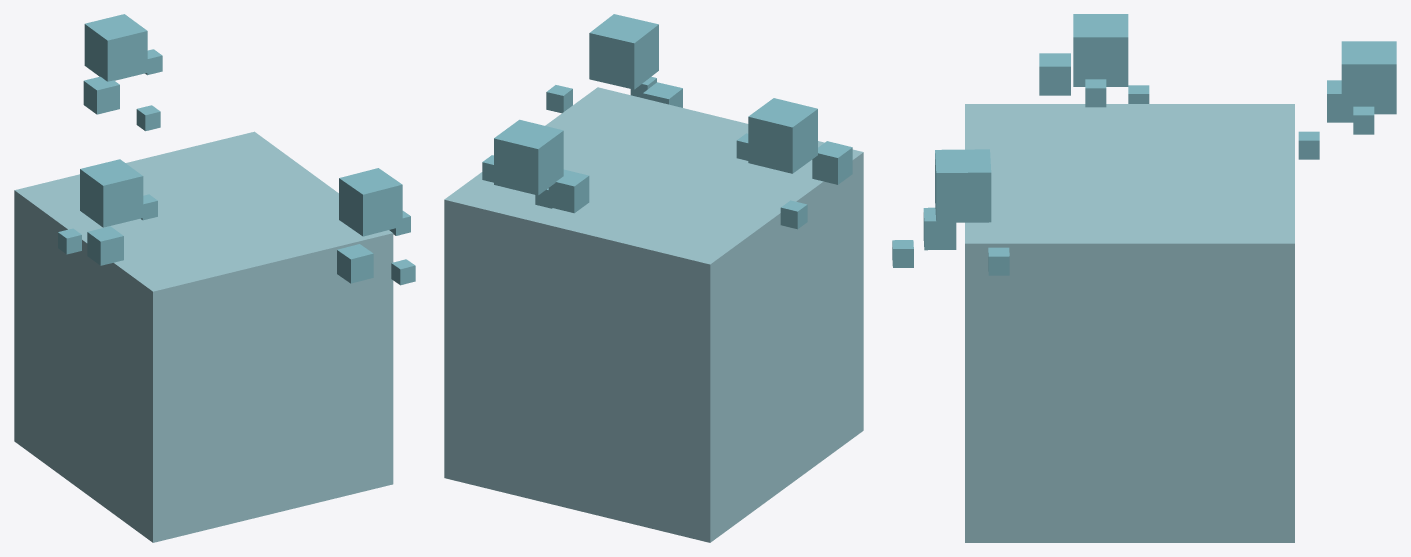
File: 04_15 sky env place holder model.fbx
The picture shows the model from 3 angles, left to right: view 1: azimuth 30°, elevation 25°; view 2: azimuth 150°, elevation 25°; view 3: azimuth 270°, elevation 25°; orthographic projection. The views are drawn at different scales.
Visible parts, largest first — view 1: sky_env; view 2: sky_env; view 3: sky_env.
Boxes of the visible parts, box(x1,y1,x2,y2) form: sky_env: box(14, 14, 415, 542); sky_env: box(444, 14, 863, 542); sky_env: box(892, 14, 1396, 542).
Size of the model in its own units: 7.23 by 8.57 by 9.16.
